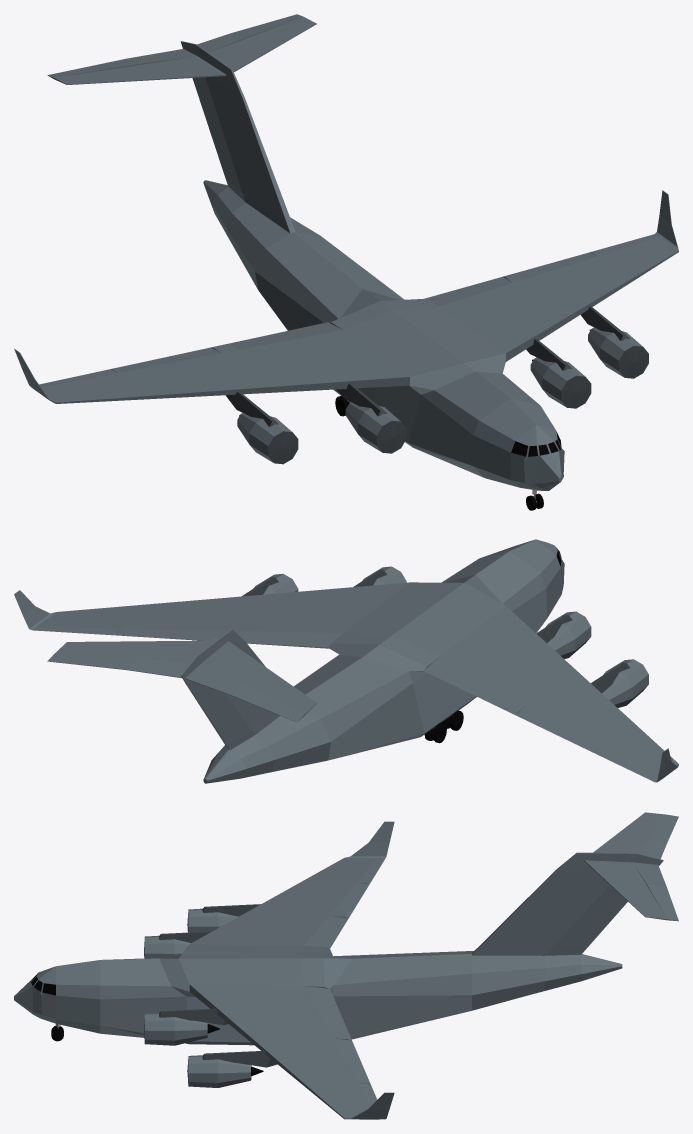
3 renders of one model, top to bottom at view 1: azimuth 30°, elevation 25°; view 2: azimuth 150°, elevation 25°; view 3: azimuth 270°, elevation 25°, orthographic. The views are drawn at different scales.
Visible parts, largest first — view 1: Body.004, Rudder.004, R_elevator.004, R_Flap2.004, L_Elevator.004, L_Flap2.004, R_Flap1.004; view 2: Body.004, Rudder.004, R_elevator.004, L_Elevator.004, R_Flap2.004, L_Flap2.004, R_Flap1.004, L_Flap1.004, Landing gear_RR.004, R_ailerone.004, L_ailerone.004; view 3: Body.004, Rudder.004, L_Elevator.004, L_Flap2.004, R_elevator.004, R_Flap2.004, L_Flap1.004, R_Flap1.004.
Boxes of the visible parts, box(x1,y1,x2,y2) form: Body.004: box(14, 17, 678, 490); Rudder.004: box(192, 77, 242, 193); R_elevator.004: box(47, 49, 193, 78); R_Flap2.004: box(228, 322, 342, 349); L_Elevator.004: box(197, 14, 303, 52); L_Flap2.004: box(425, 276, 512, 306); R_Flap1.004: box(115, 347, 220, 371); Body.004: box(14, 539, 678, 783); Rudder.004: box(186, 681, 252, 745); R_elevator.004: box(188, 665, 303, 722); L_Elevator.004: box(47, 654, 189, 677); R_Flap2.004: box(424, 656, 512, 708); L_Flap2.004: box(237, 631, 342, 648); R_Flap1.004: box(516, 705, 596, 751); L_Flap1.004: box(115, 628, 220, 640); Landing gear_RR.004: box(424, 710, 463, 743); R_ailerone.004: box(594, 746, 657, 782); L_ailerone.004: box(32, 626, 117, 635); Body.004: box(14, 812, 667, 1119); Rudder.004: box(550, 885, 627, 950); L_Elevator.004: box(634, 863, 678, 921); L_Flap2.004: box(304, 986, 348, 1032); R_elevator.004: box(638, 814, 678, 859); R_Flap2.004: box(304, 916, 348, 948); L_Flap1.004: box(333, 1038, 369, 1082); R_Flap1.004: box(333, 883, 369, 912).
Size of the model in its own units: 5086 by 1629 by 5269.
